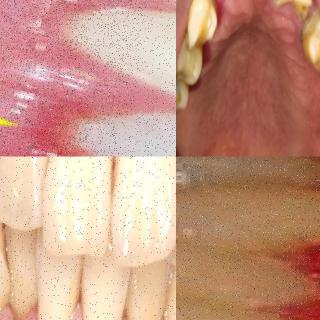Gum Swelling: (0, 67, 83, 157), (0, 0, 90, 67), (0, 297, 41, 320), (54, 308, 88, 320)
calculus: (246, 249, 312, 312), (186, 0, 218, 48), (300, 6, 320, 68), (185, 37, 205, 97), (176, 71, 185, 111), (268, 0, 292, 12)
maligned: (176, 173, 320, 255), (0, 213, 42, 320)
